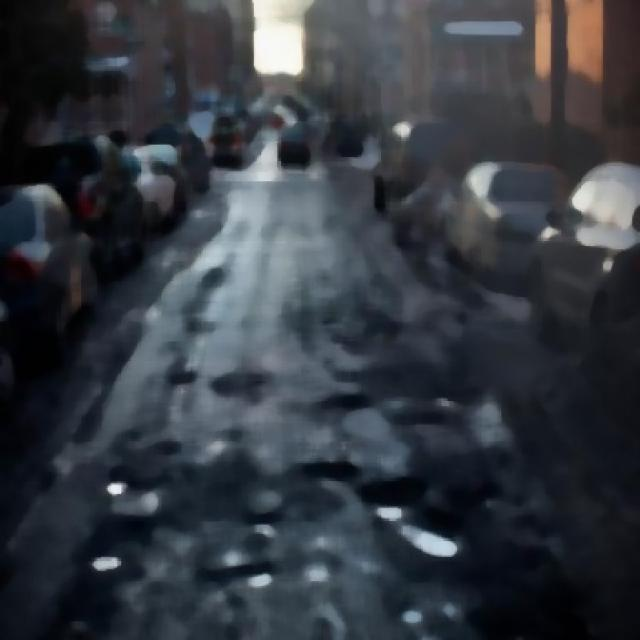Pothole: (110, 421, 530, 639), (312, 277, 411, 440)
